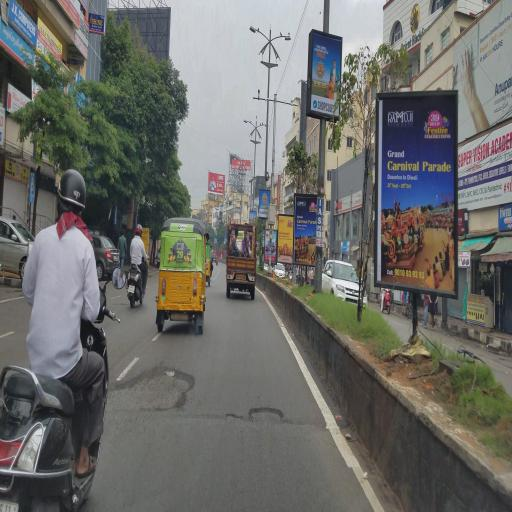street_light_0: (269, 20, 293, 52), (247, 21, 271, 53), (242, 109, 256, 133), (256, 115, 268, 139)
